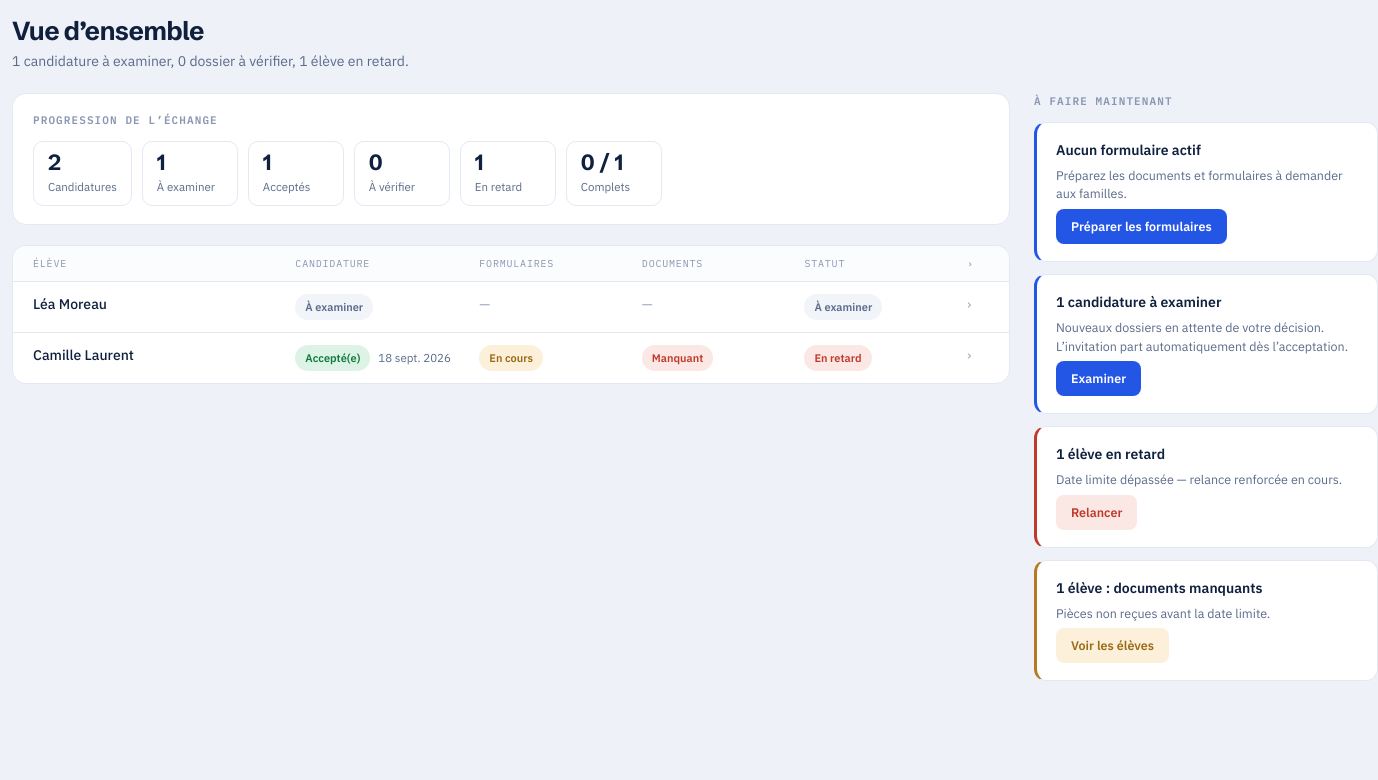
Test: OverviewView — unified lifecycle table › funnel tile filters the table and shows a dismissible chip
Click the button "1 À examiner": (190, 173) [142,140,238,206]
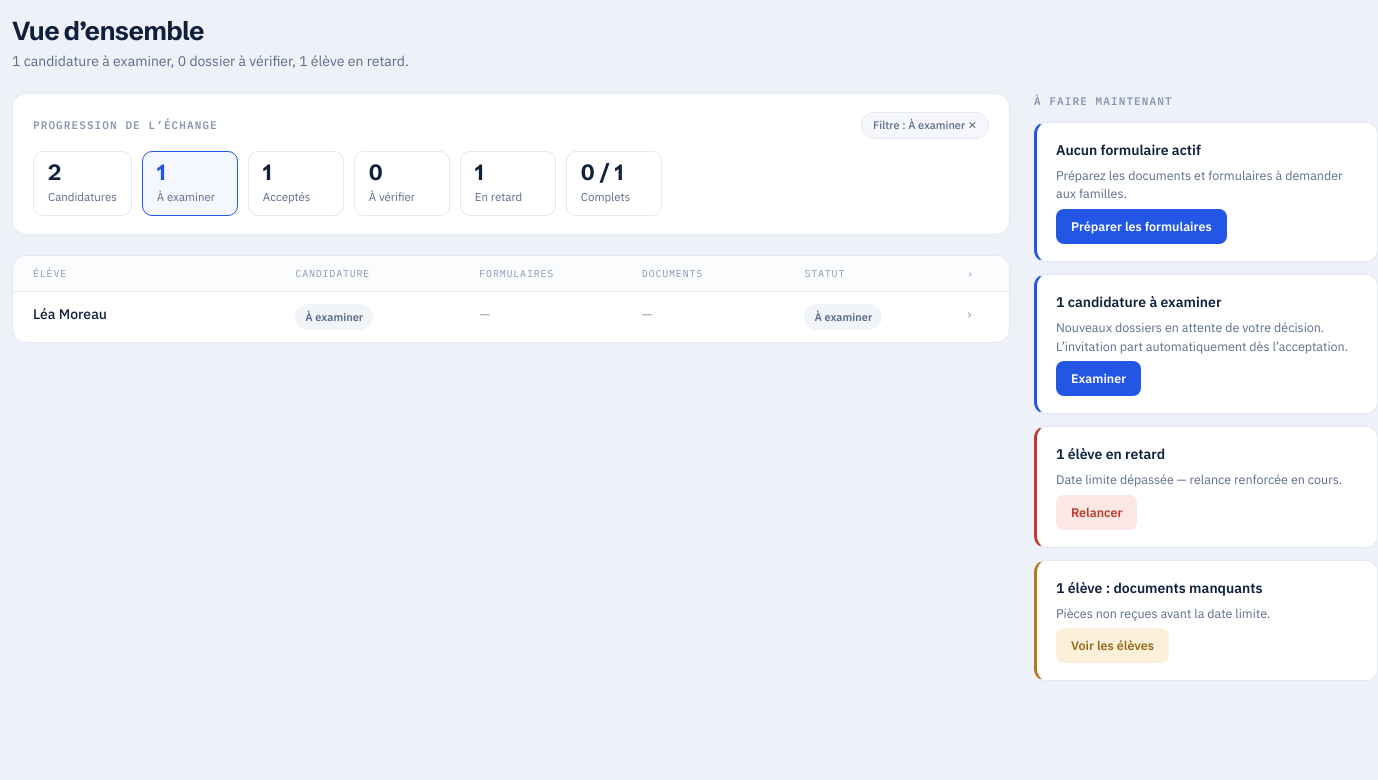
Expected: the text "Léa Moreau" is shown, [33,305,107,323]
Expected: the text "Camille Laurent" is gone
Click the button "Filtre : À examiner ✕": (925, 125) [861,112,989,138]
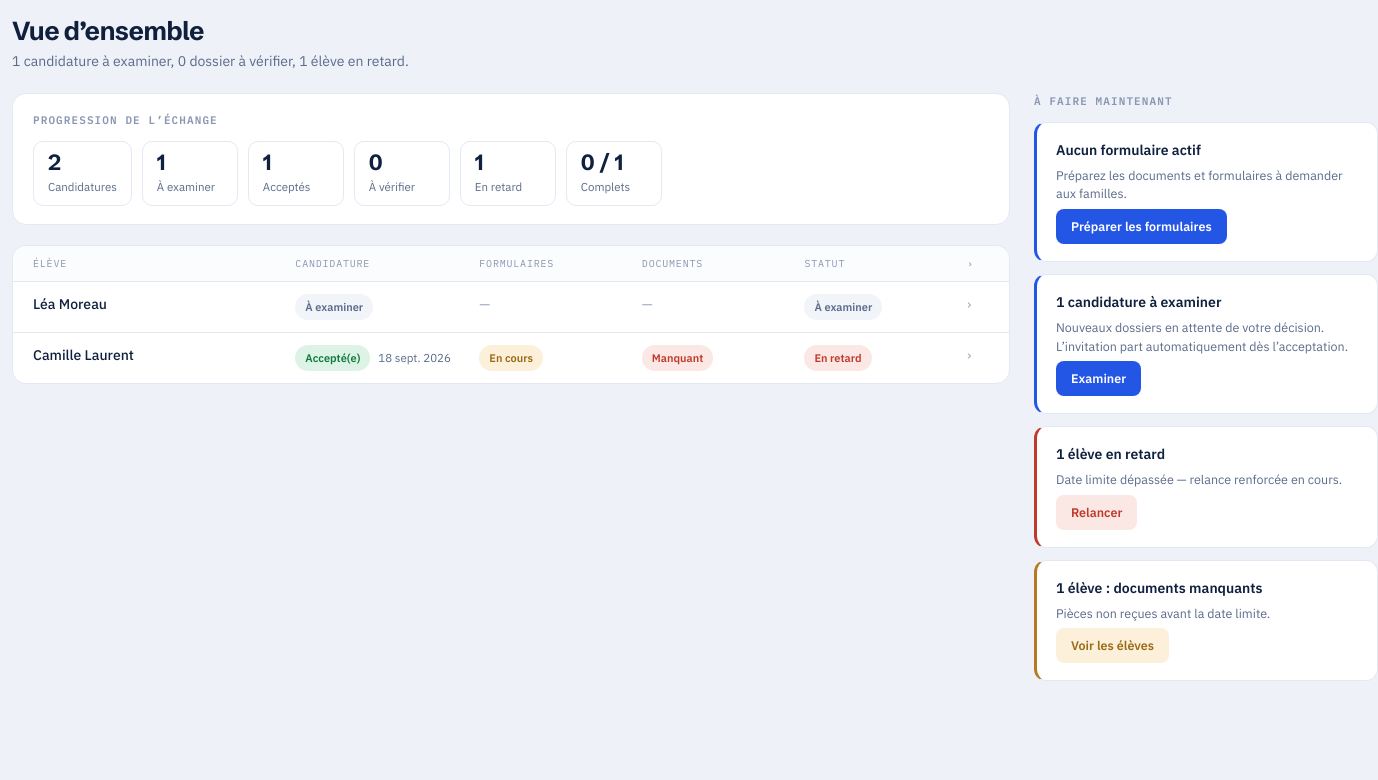
Expected: the text "Camille Laurent" is shown, [33,346,134,364]
